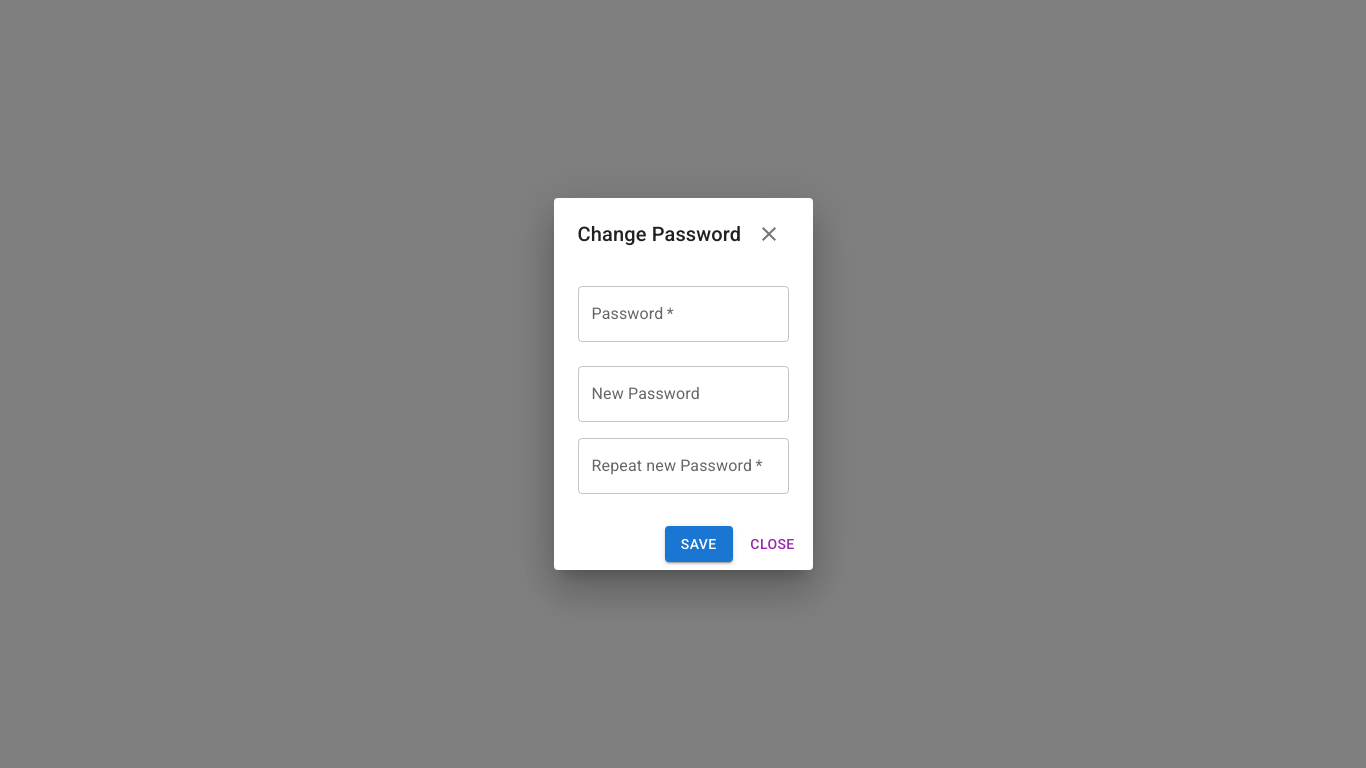
UserChangePasswordModalForm › should show an error message if the password is wrong
In the password field labelled "Password *": (683, 314) [578,286,788,342], type "password"
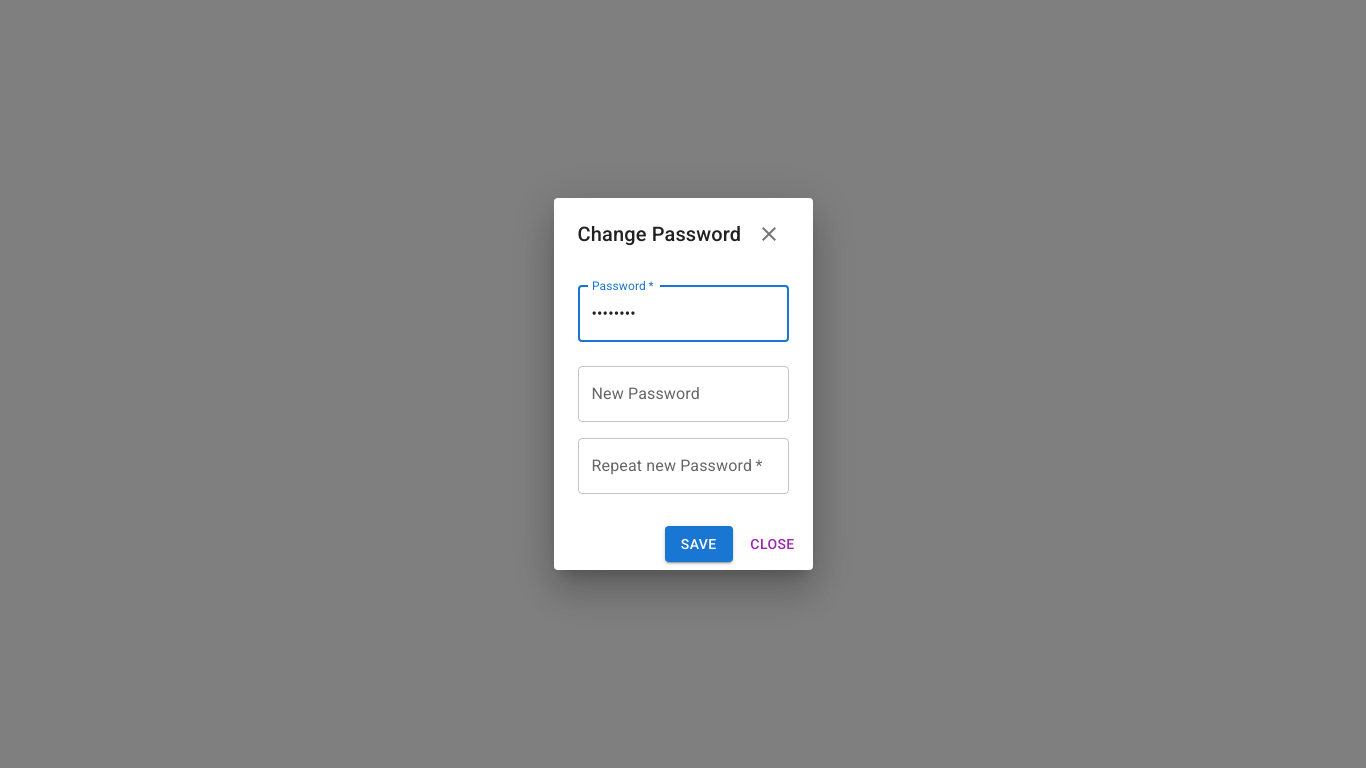
In the password field labelled "New Password": (683, 394) [578,366,788,422], type "newpassword"
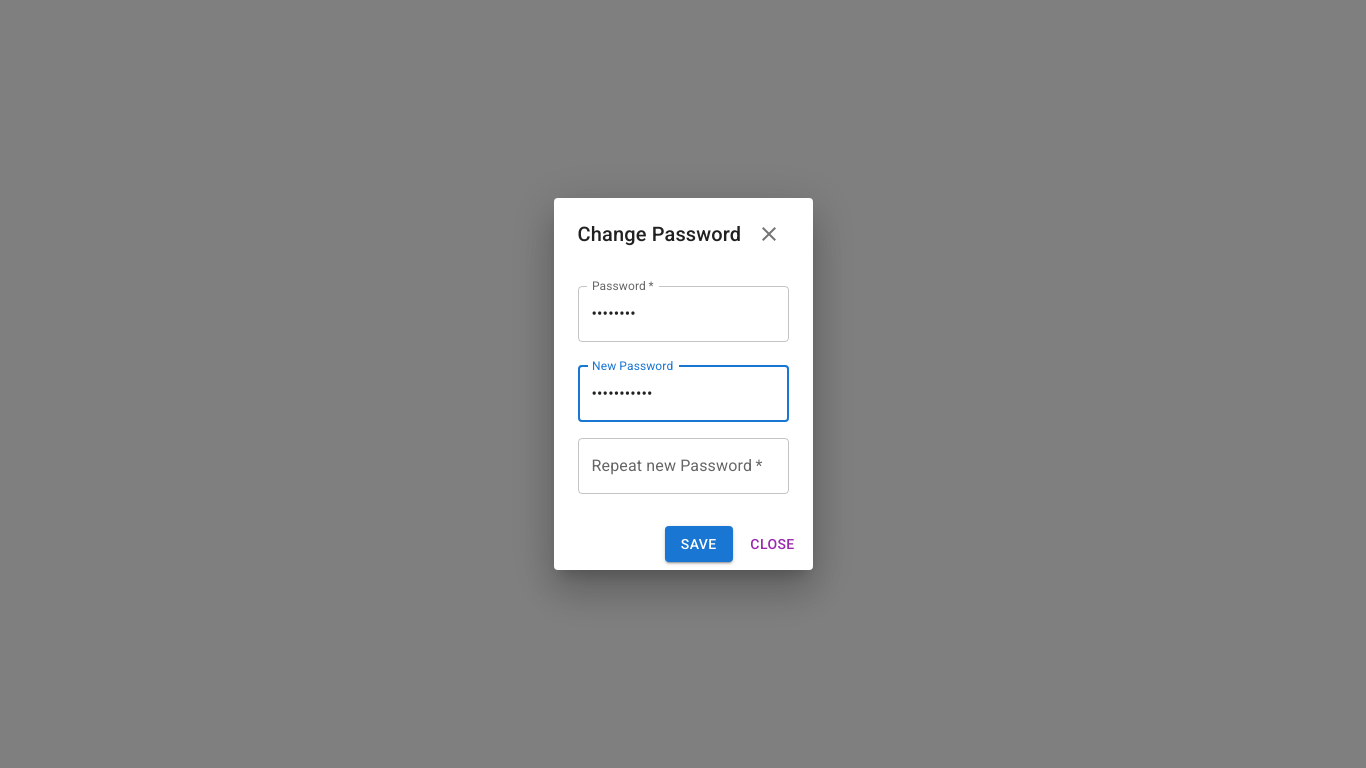
In the password field labelled "Repeat new Password *": (683, 466) [578,438,788,494], type "newpassword"
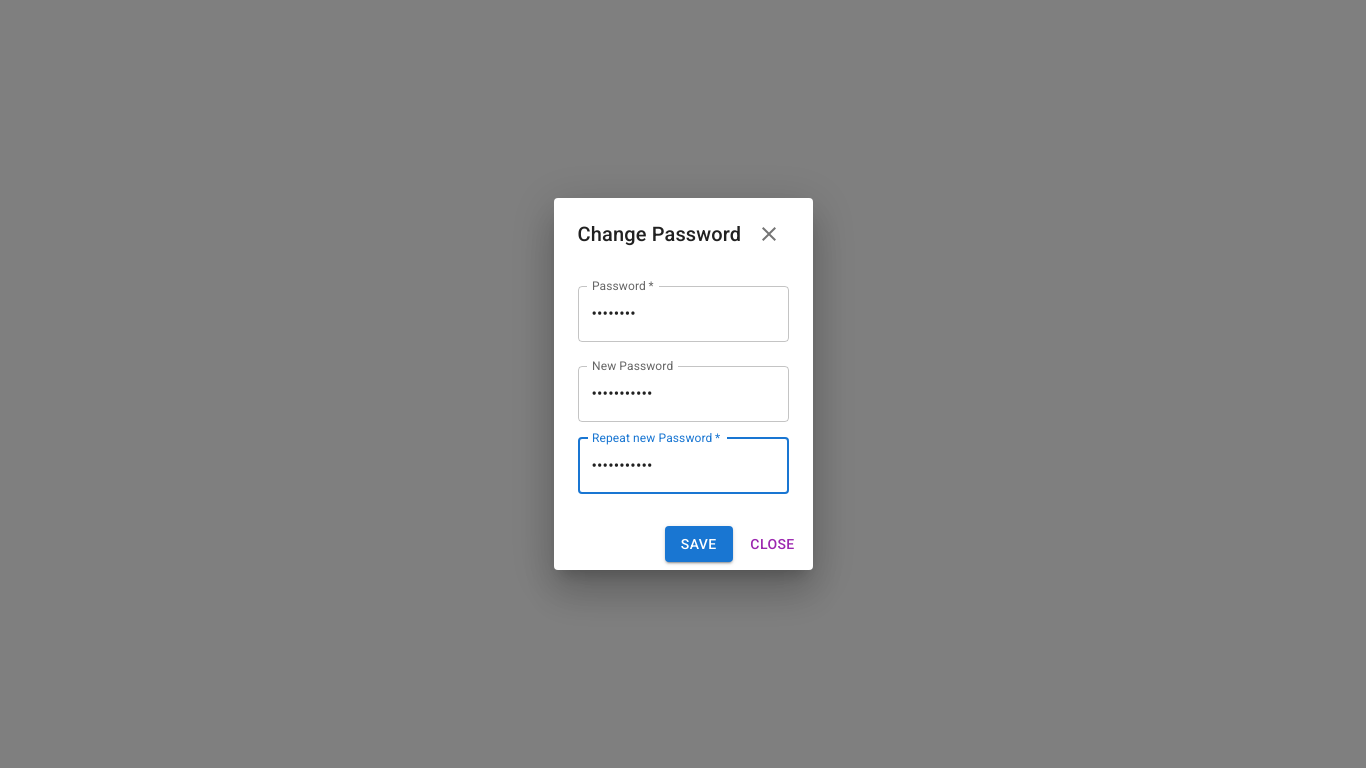
Click the button "Save": (699, 544) [665,526,733,562]
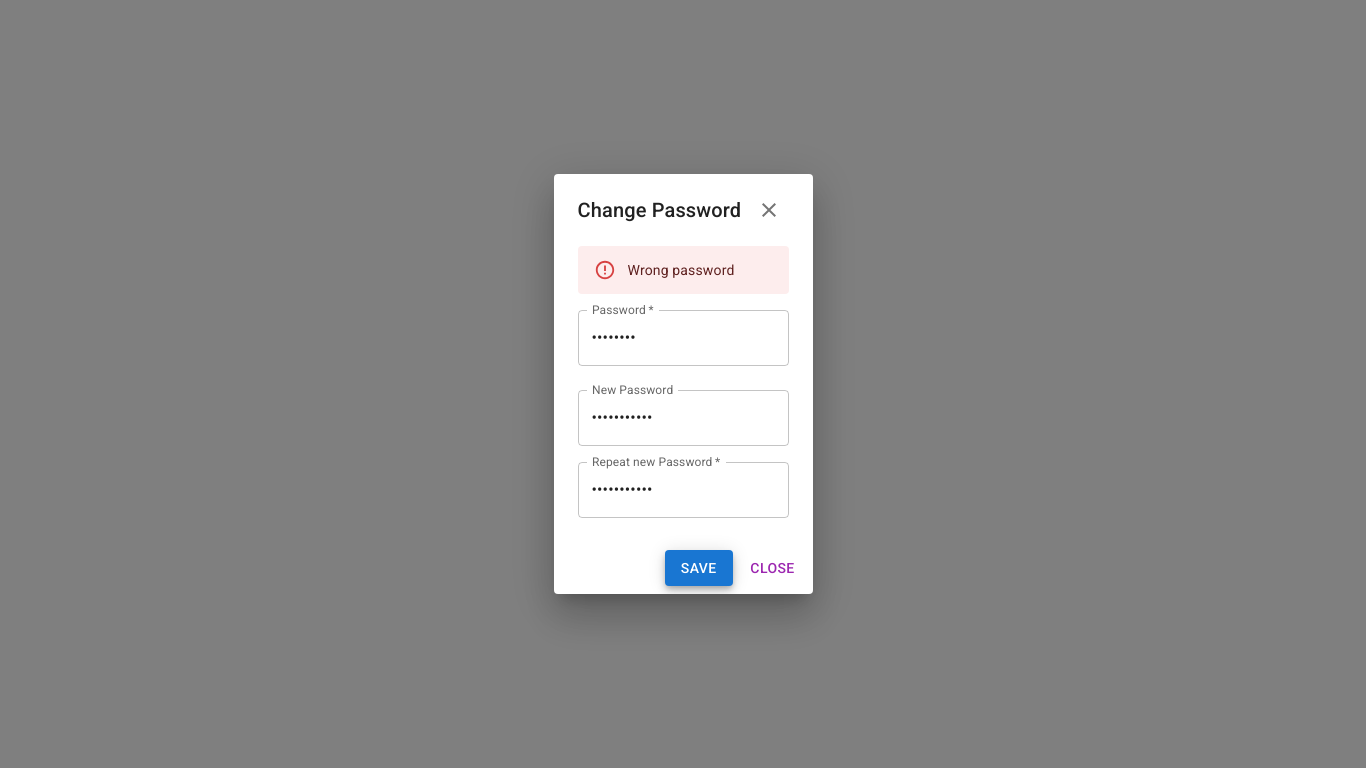
Check: the text "Wrong password" is shown, box [628,262,734,278]
